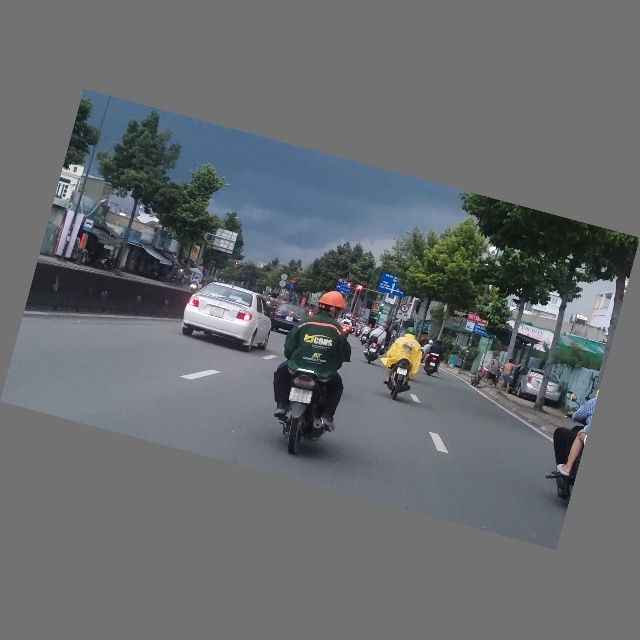P.102: (290, 279, 297, 285)
P.137: (400, 304, 410, 314)
R.415a: (335, 282, 351, 297)
